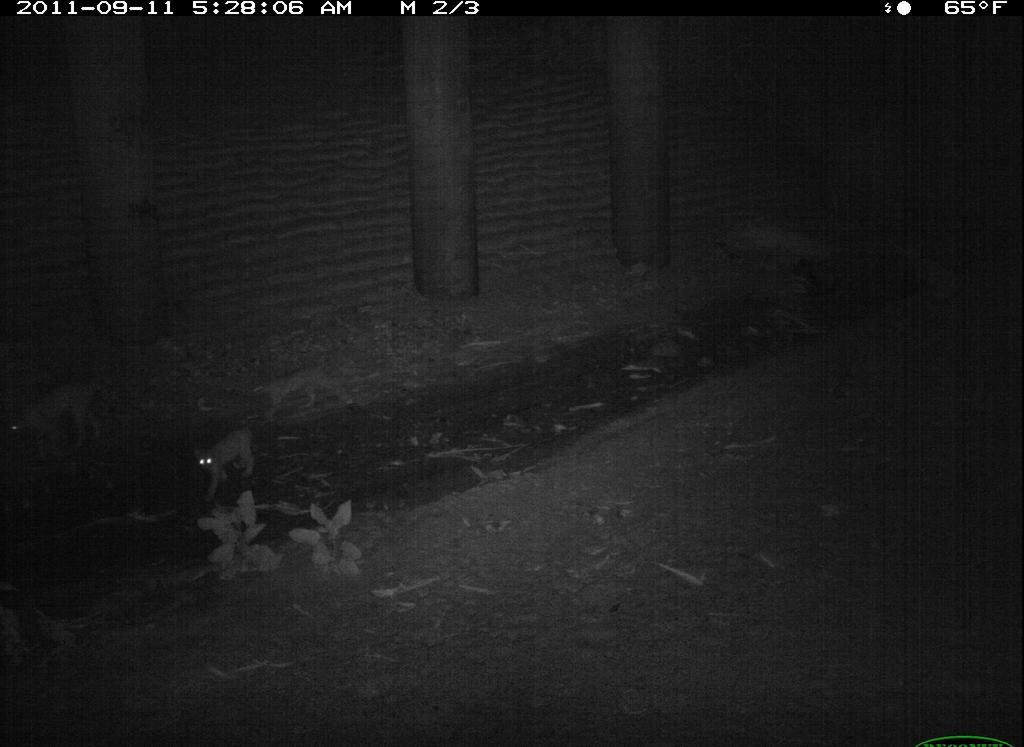bobcat: (491, 721, 725, 747)
